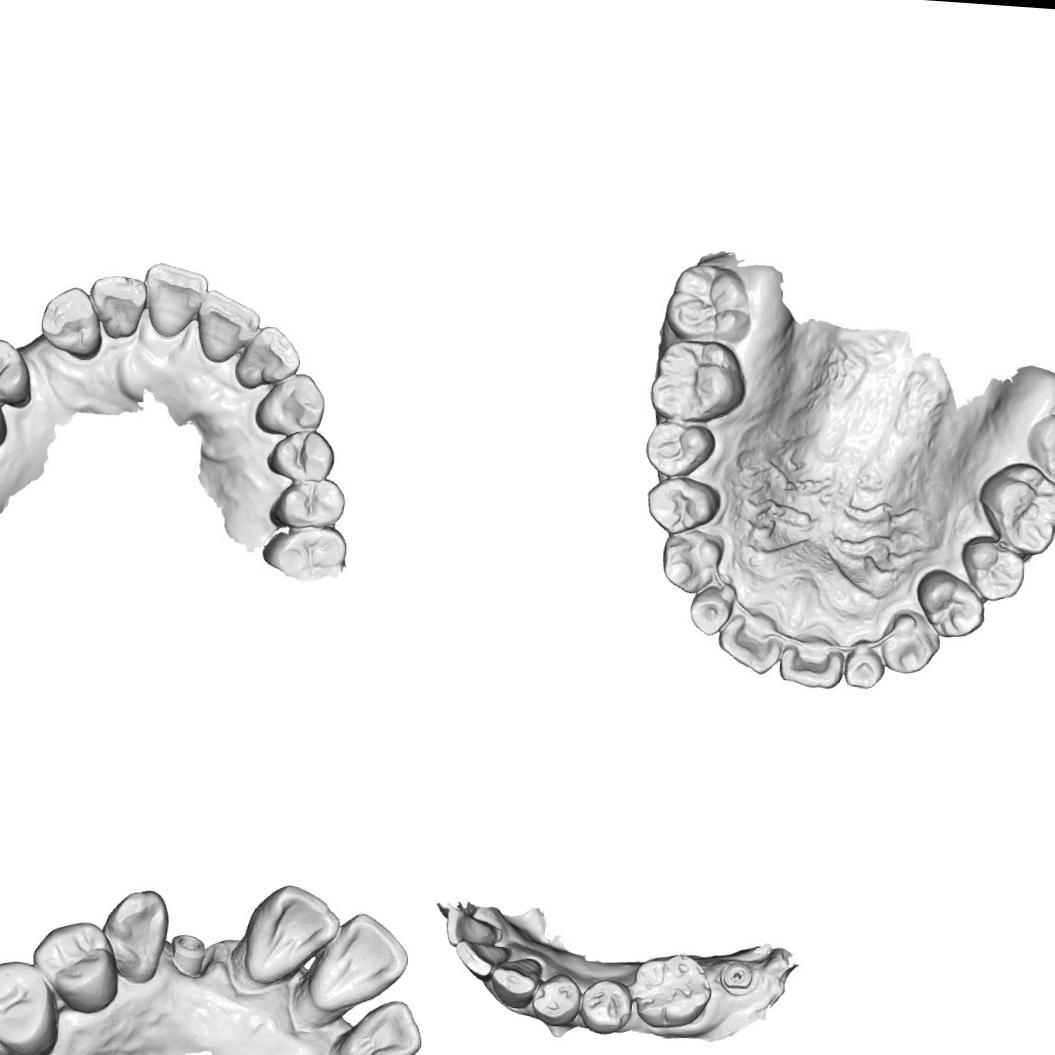canine: (100, 884, 172, 985), (251, 367, 330, 439), (36, 284, 104, 361), (877, 604, 944, 677), (656, 527, 724, 597), (487, 954, 543, 1010)
implant: (164, 929, 210, 984)
implant_minus: (717, 958, 756, 996)
incisor: (306, 906, 414, 1016), (237, 879, 341, 990), (138, 258, 210, 341), (335, 992, 422, 1055), (190, 288, 260, 366), (774, 620, 846, 691), (714, 609, 782, 678), (85, 269, 147, 342), (236, 319, 298, 385), (684, 578, 740, 640), (452, 937, 513, 982), (443, 904, 501, 950), (843, 639, 886, 691)
molar: (646, 336, 748, 424), (973, 457, 1055, 558), (663, 258, 756, 344), (628, 948, 714, 1032), (262, 523, 348, 580), (1021, 404, 1055, 491)
premolar: (28, 916, 122, 1015), (910, 564, 989, 642), (0, 956, 57, 1055), (954, 531, 1028, 605), (640, 415, 719, 480), (642, 473, 723, 534), (267, 472, 347, 531), (265, 426, 341, 482), (576, 974, 635, 1036), (528, 968, 584, 1030), (0, 336, 34, 401)
